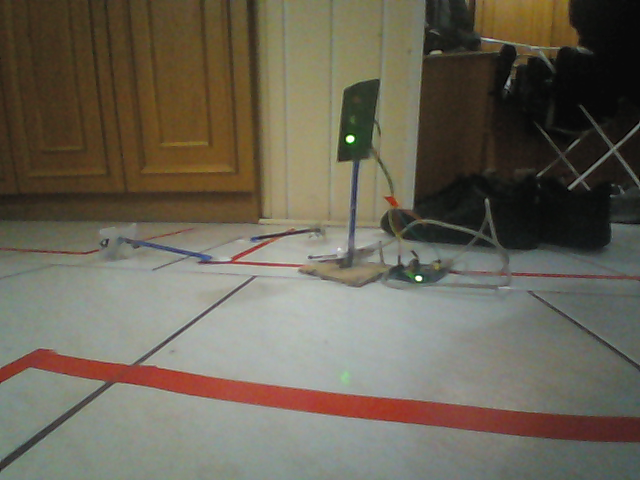green_sign: (332, 74, 384, 164)
